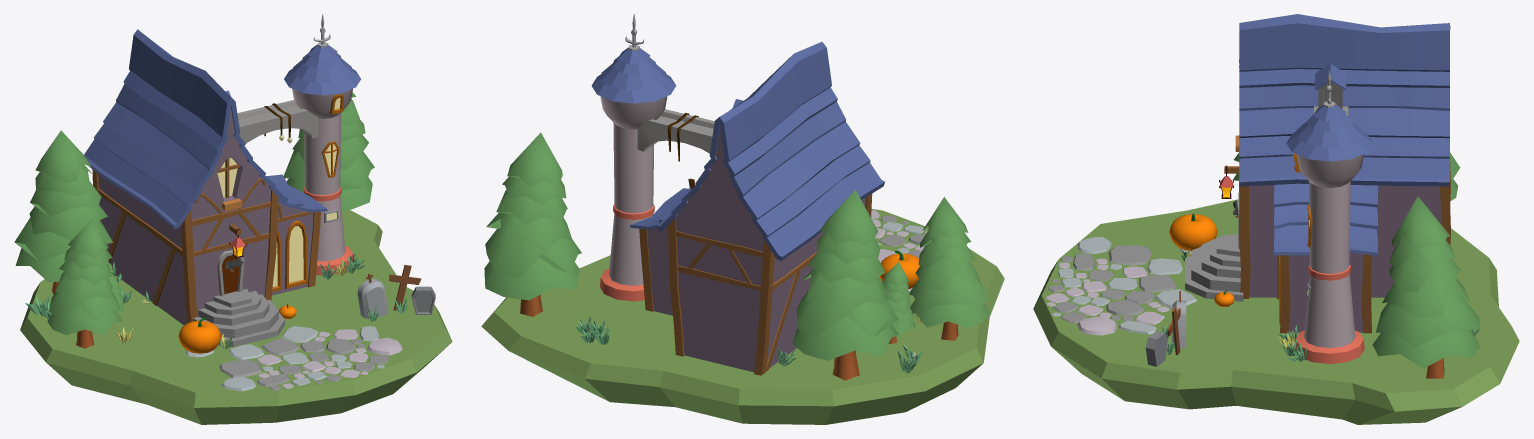
The model's file is halloween.glb.
3 renders of one model, left to right at view 1: azimuth 30°, elevation 25°; view 2: azimuth 150°, elevation 25°; view 3: azimuth 270°, elevation 25°, orthographic. The views are drawn at different scales.
Parts seen in each view (by area): view 1: Cylinder, roof_01, house_01, tree_03, tree_02, tower, tree_01, bridge, house_win_02, Cube.018, house_02, pupmpkin_01 (+23 smaller); view 2: Cylinder, roof_01, house_01, tree_03, tree_01, tower, tree_02, bridge, house_02, Cube.020, tree_04, tower_roof_01 (+10 smaller); view 3: Cylinder, roof_01, tree_01, tower, house_01, roof__02, house_02, pupmpkin_01, tower_roof_01, tower_roof_02, Cube.019, stairs2 (+18 smaller).
Part boxes in pixels (x1=…): Cylinder: x1=20, y1=209, x2=452, y2=424; roof_01: x1=84, y1=29, x2=288, y2=229; house_01: x1=98, y1=108, x2=270, y2=325; tree_03: x1=14, y1=130, x2=113, y2=281; tree_02: x1=47, y1=218, x2=122, y2=335; tower: x1=292, y1=88, x2=353, y2=275; tree_01: x1=283, y1=92, x2=374, y2=210; bridge: x1=237, y1=100, x2=318, y2=144; house_win_02: x1=285, y1=220, x2=307, y2=288; Cube.018: x1=181, y1=210, x2=197, y2=322; house_02: x1=272, y1=202, x2=313, y2=295; pupmpkin_01: x1=178, y1=320, x2=221, y2=353; Cylinder: x1=481, y1=209, x2=1004, y2=424; roof_01: x1=656, y1=41, x2=884, y2=261; house_01: x1=676, y1=127, x2=865, y2=372; tree_03: x1=792, y1=190, x2=898, y2=360; tree_01: x1=484, y1=132, x2=581, y2=300; tower: x1=599, y1=96, x2=667, y2=301; tree_02: x1=909, y1=197, x2=989, y2=327; bridge: x1=637, y1=109, x2=714, y2=153; house_02: x1=647, y1=226, x2=672, y2=315; Cube.020: x1=754, y1=240, x2=774, y2=375; tree_04: x1=882, y1=262, x2=915, y2=335; tower_roof_01: x1=591, y1=74, x2=676, y2=103; Cylinder: x1=1033, y1=199, x2=1519, y2=424; roof_01: x1=1239, y1=14, x2=1450, y2=186; tree_01: x1=1372, y1=196, x2=1479, y2=368; tower: x1=1295, y1=154, x2=1364, y2=363; house_01: x1=1249, y1=185, x2=1441, y2=297; roof__02: x1=1274, y1=183, x2=1378, y2=255; house_02: x1=1288, y1=252, x2=1363, y2=332; pupmpkin_01: x1=1169, y1=214, x2=1217, y2=250; tower_roof_01: x1=1286, y1=131, x2=1372, y2=161; tower_roof_02: x1=1296, y1=121, x2=1362, y2=147; Cube.019: x1=1239, y1=186, x2=1250, y2=298; stairs2: x1=1191, y1=246, x2=1240, y2=292.
Bounding box in the file's own units: 2083 × 1482 × 2008.
